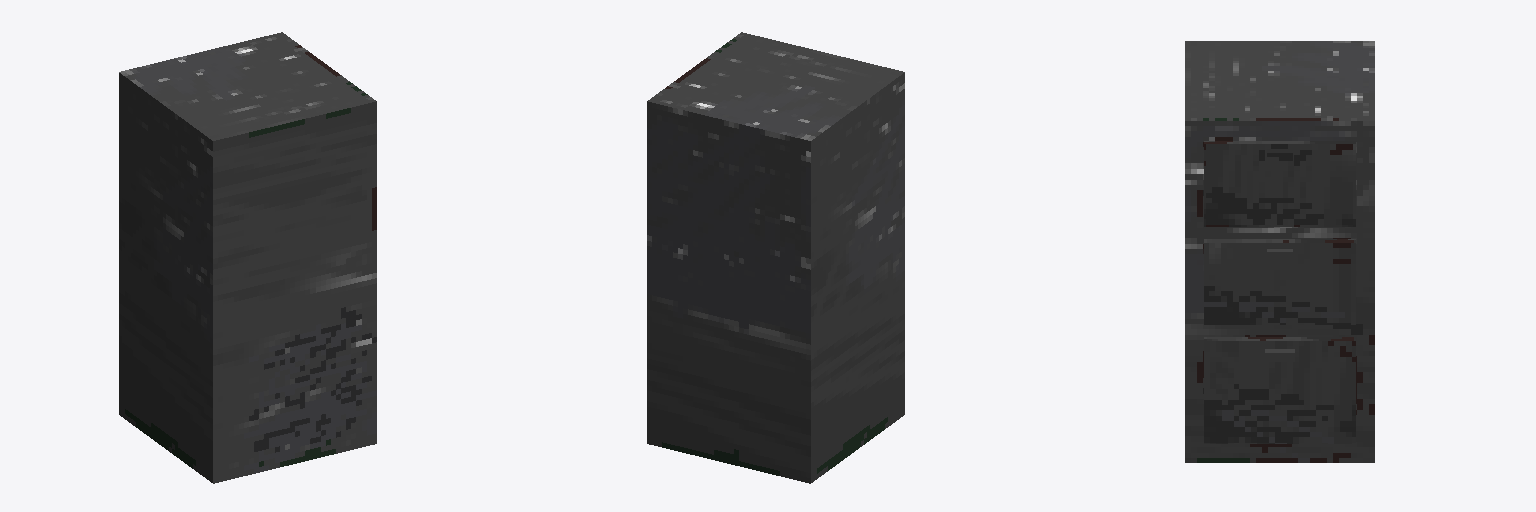
3 renders of one model, left to right at view 1: azimuth 30°, elevation 25°; view 2: azimuth 150°, elevation 25°; view 3: azimuth 270°, elevation 25°, orthographic.
Parts seen in each view (by area): view 1: Cube_Cube.002; view 2: Cube_Cube.002; view 3: Cube_Cube.002.
Part boxes in pixels (left/top/right/bottom): Cube_Cube.002: left=119, top=32, right=376, bottom=483; Cube_Cube.002: left=647, top=32, right=904, bottom=483; Cube_Cube.002: left=1185, top=41, right=1374, bottom=462.
Bounding box in the file's own units: 0.792 × 1.44 × 0.72.
Materials: 1 (1 with a texture image).